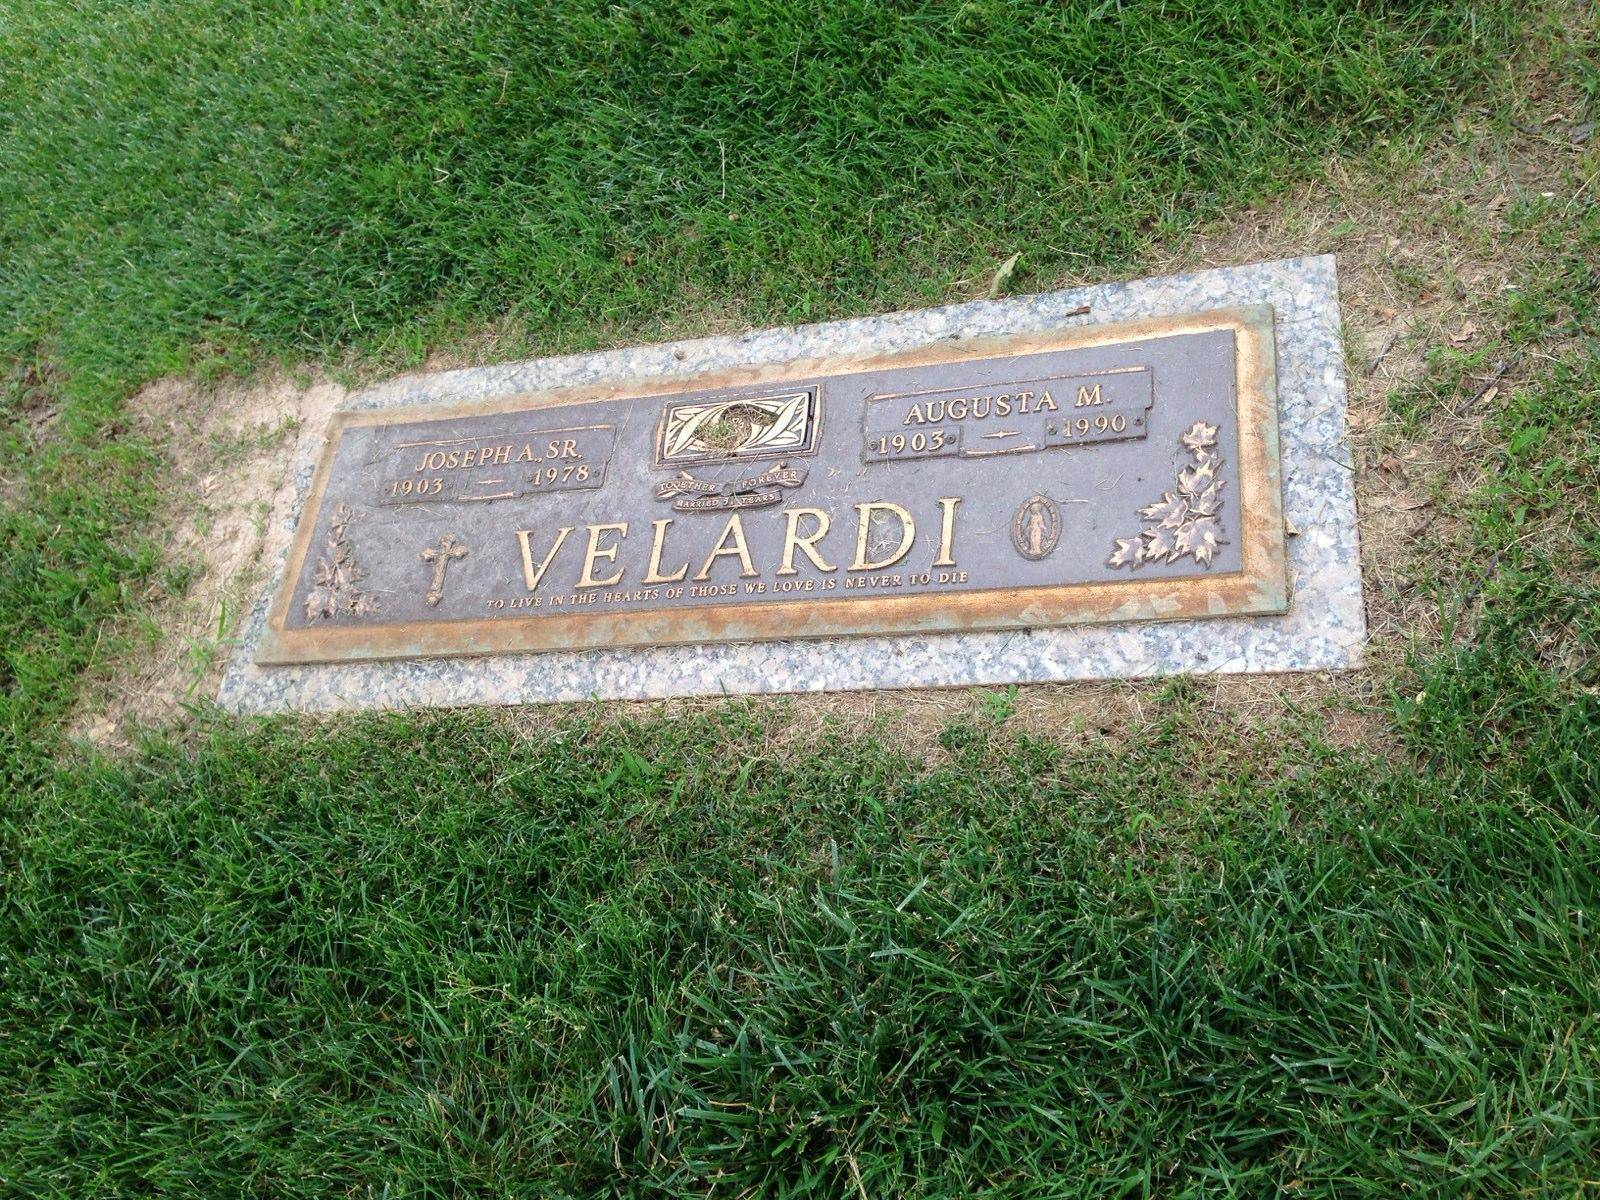flat: (209, 255, 1372, 725)
